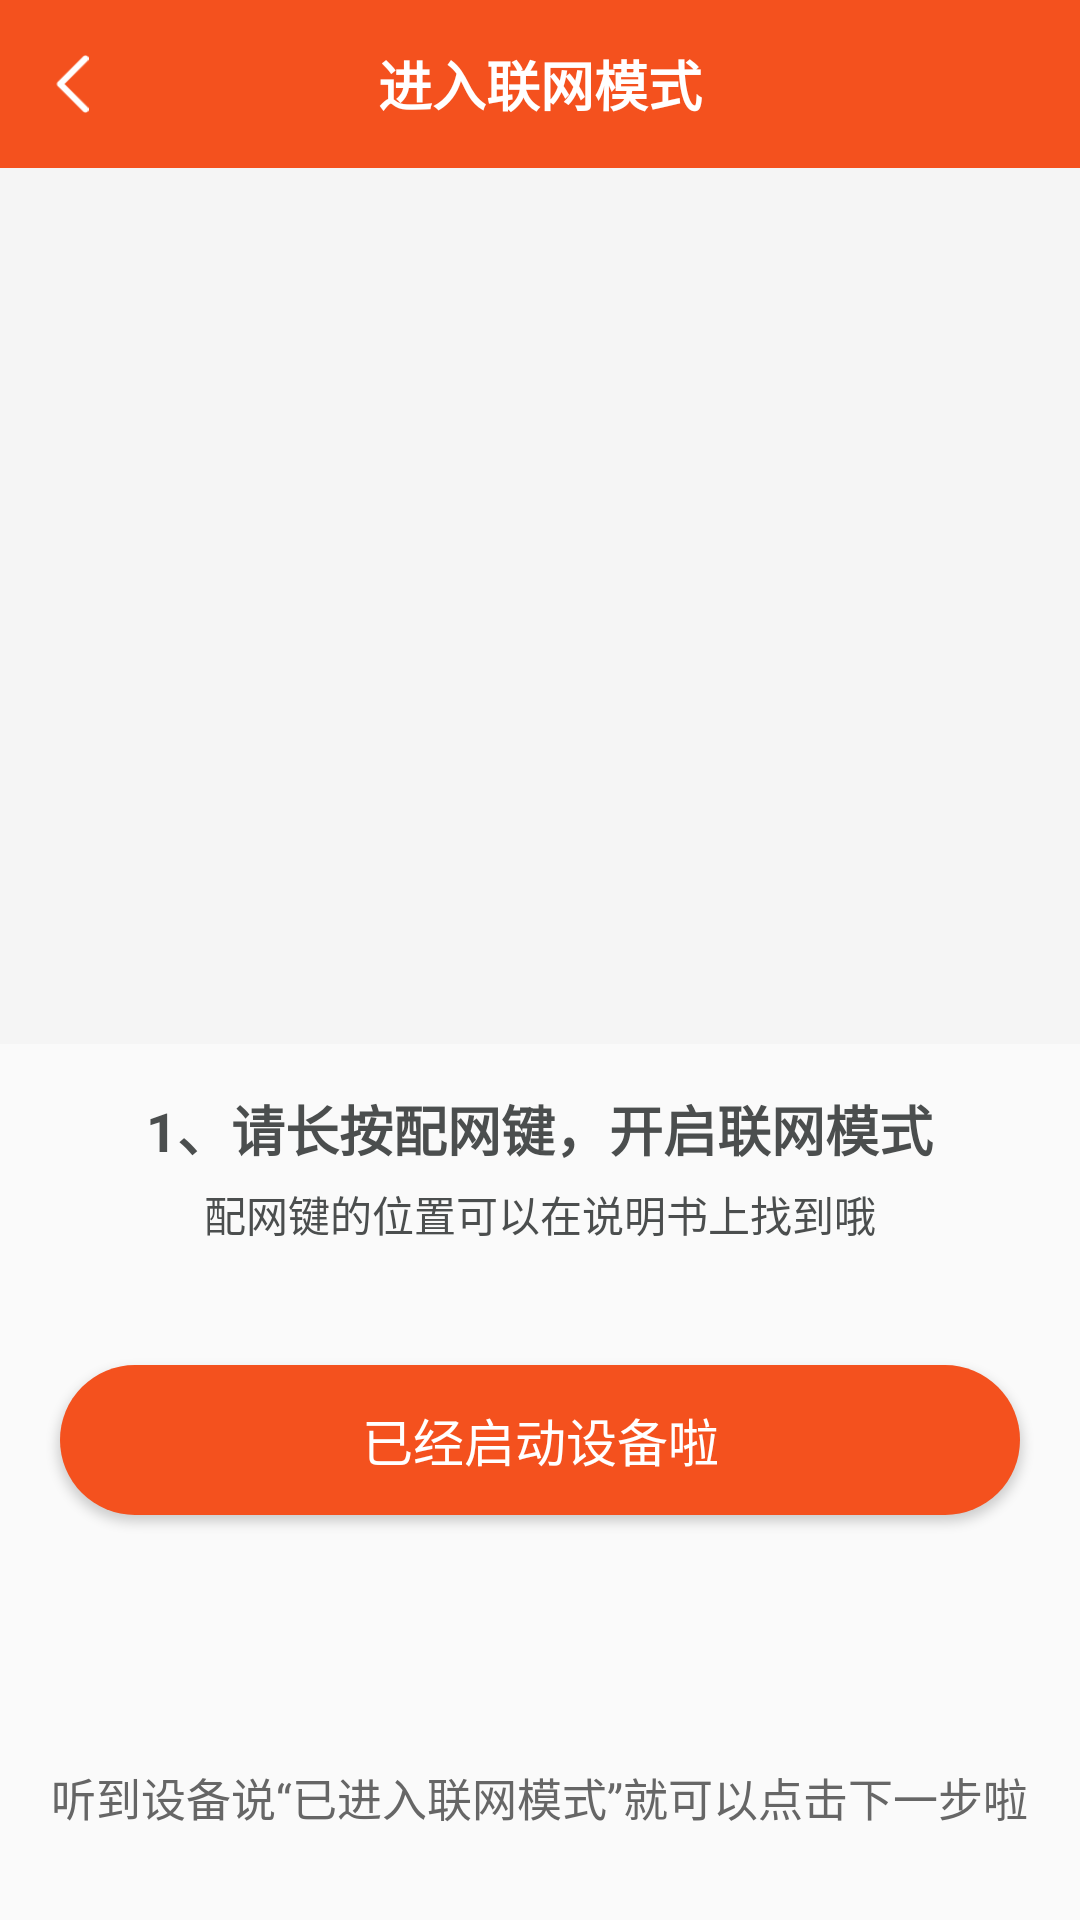

Locate icon controls on the screen. Image size 1080px×1920px, boxes as (x1, y1, x2, y2).
fanhui: (56, 55, 89, 113)
